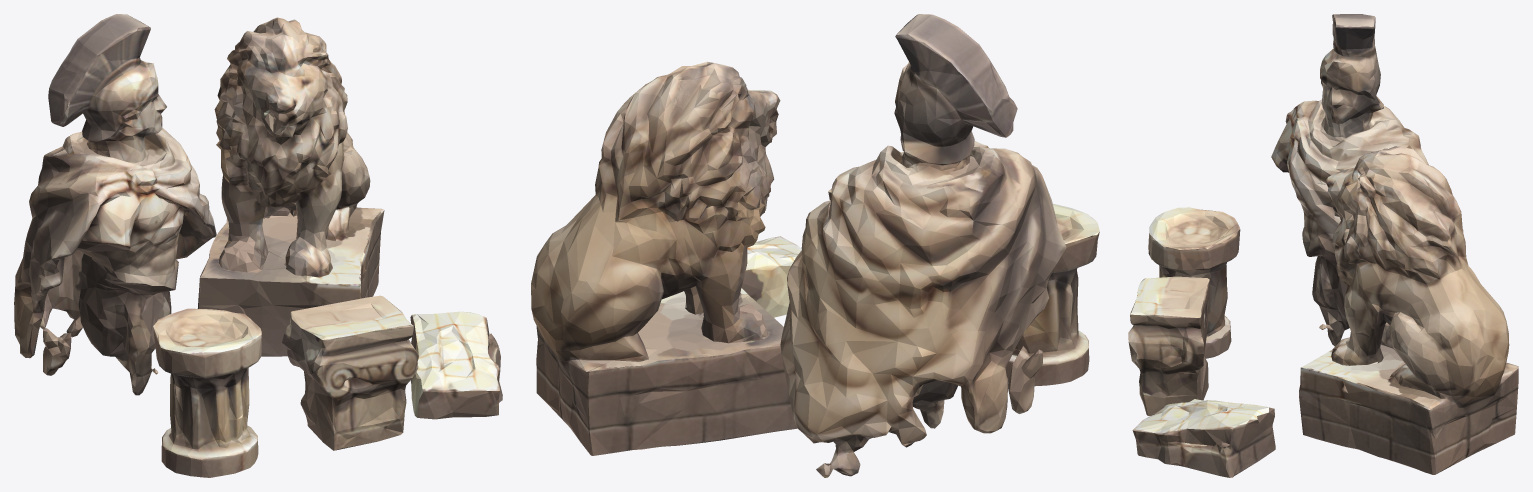
Rendered from arena_statue_pair_1117.glb.
The picture shows the model from 3 angles, left to right: view 1: azimuth 30°, elevation 25°; view 2: azimuth 150°, elevation 25°; view 3: azimuth 270°, elevation 25°; orthographic projection. The views are drawn at different scales.
Parts seen in each view (by area): view 1: tmpn1r3ti3e.ply; view 2: tmpn1r3ti3e.ply; view 3: tmpn1r3ti3e.ply.
Boxes of the visible parts, x1,y1,x2,y2 form: tmpn1r3ti3e.ply: (14,14,502,477); tmpn1r3ti3e.ply: (531,14,1099,477); tmpn1r3ti3e.ply: (1128,14,1518,477).
Bounding box in the file's own units: 1.99 × 1.73 × 1.86.
1 material, 1 textured.
